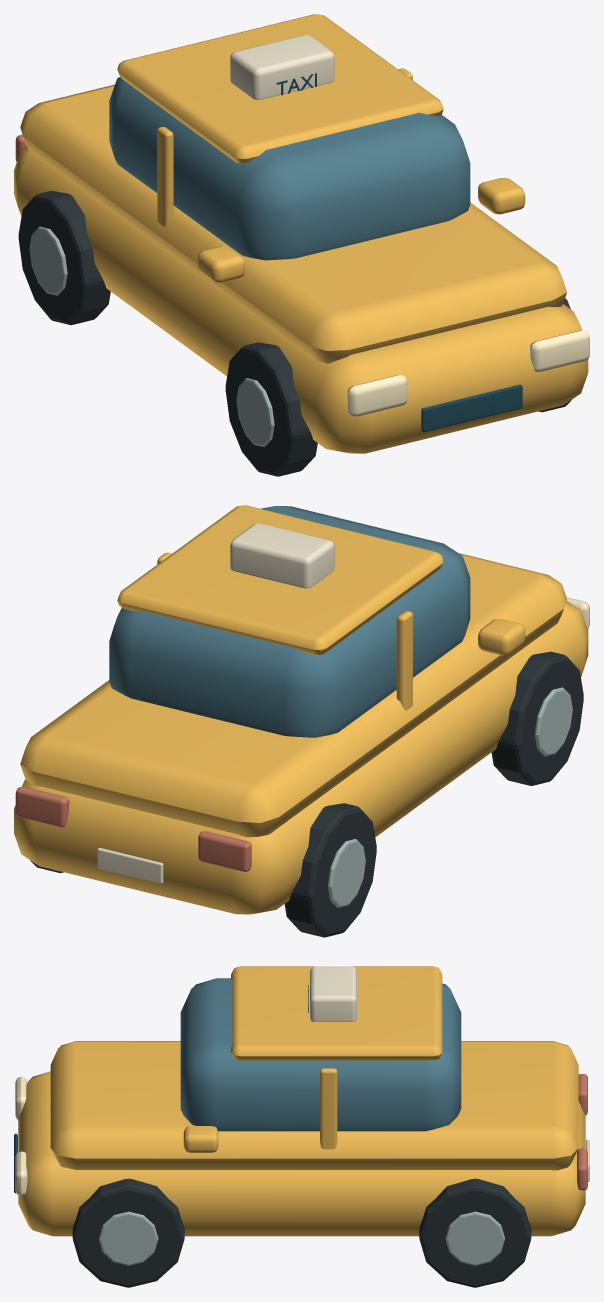
The model's file is car-gold.glb.
3 views of the same model, one above another, from view 1: azimuth 30°, elevation 25°; view 2: azimuth 150°, elevation 25°; view 3: azimuth 270°, elevation 25° (orthographic). The views are drawn at different scales.
Parts seen in each view (by area): view 1: Shoulder, Lower body, Cabin glazing, Roof, Tyre.001, Tyre, Roof light, Front grille, Hub.001, Hub, Headlight, Headlight.001 (+3 smaller); view 2: Shoulder, Lower body, Cabin glazing, Roof, Tyre, Tyre.001, Roof light, Hub, Hub.001, Rear light, Rear light.001, Door pillar (+2 smaller); view 3: Shoulder, Lower body, Cabin glazing, Roof, Tyre.002, Tyre.003, Roof light, Hub.002, Hub.003, Door pillar.001, Mirror.001, Headlight.001 (+1 smaller).
Part boxes in pixels (x1,y1,x2,y2): Shoulder: (20,84,566,363); Lower body: (14,146,588,453); Cabin glazing: (109,77,470,260); Roof: (117,14,443,163); Tyre.001: (18,190,110,325); Tyre: (225,342,317,476); Roof light: (230,35,334,99); Front grille: (421,384,522,432); Hub.001: (29,226,67,295); Hub: (236,378,274,446); Headlight: (347,375,407,416); Headlight.001: (530,330,589,372); Shoulder: (20,553,566,837); Lower body: (14,601,588,914); Cabin glazing: (109,506,470,737); Roof: (117,505,443,655); Tyre: (491,651,583,785); Tyre.001: (284,803,376,937); Roof light: (230,523,334,588); Hub: (534,687,572,756); Hub.001: (327,839,365,907); Rear light: (198,831,251,871); Rear light.001: (15,786,69,827); Door pillar: (396,611,412,710); Shoulder: (50,1041,578,1170); Lower body: (18,1071,585,1236); Cabin glazing: (180,978,461,1131); Roof: (231,966,442,1060); Tyre.002: (72,1178,184,1287); Tyre.003: (419,1178,531,1287); Roof light: (310,966,356,1021); Hub.002: (98,1211,158,1265); Hub.003: (445,1211,505,1265); Door pillar.001: (320,1068,337,1149); Mirror.001: (183,1126,218,1152); Headlight.001: (15,1151,27,1195).
Bounding box in the file's own units: 1.92 × 1.74 × 3.66.
